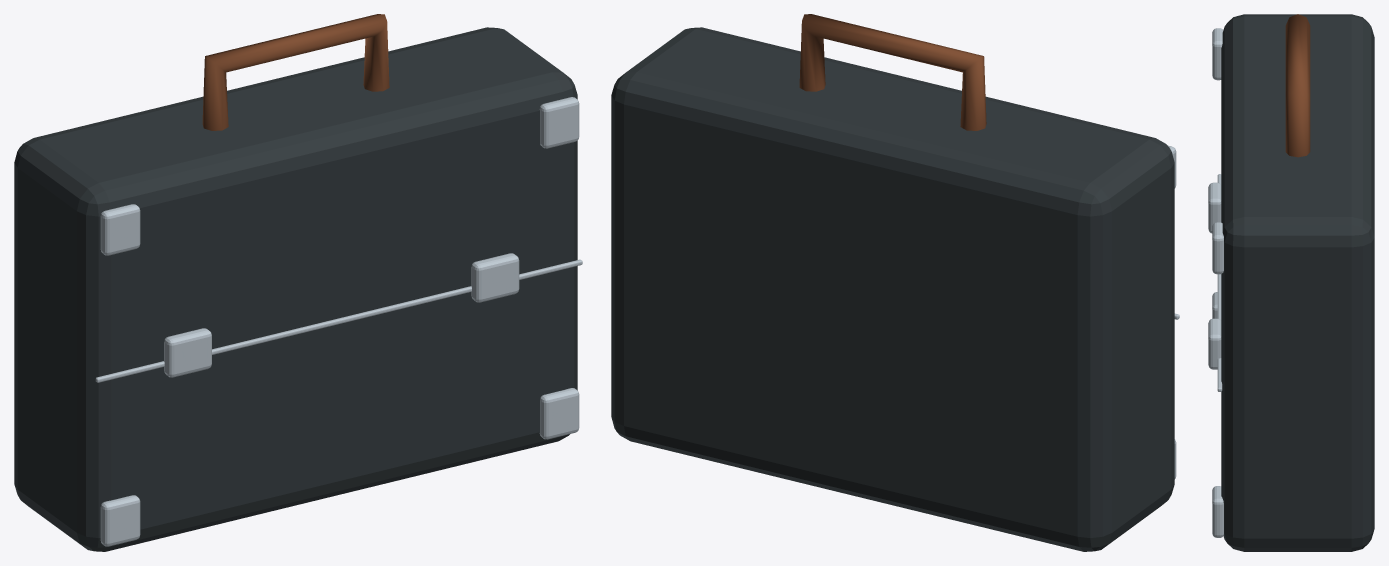
Rendered from Maletin.fbx.
3 views of the same model, side by side, from view 1: azimuth 30°, elevation 25°; view 2: azimuth 150°, elevation 25°; view 3: azimuth 270°, elevation 25° (orthographic). The views are drawn at different scales.
Visible parts, largest first — view 1: Maletin, Asa, Union_tapa, Cierre.001, Cierre, Esquina.001, Esquina, Esquina.003, Esquina.002; view 2: Maletin, Asa; view 3: Maletin, Asa, Cierre.001, Cierre, Esquina.003, Esquina.002, Esquina.001, Union_tapa.
Boxes of the visible parts, <box> form: Maletin: <box>14,27,577,551</box>; Asa: <box>202,14,389,130</box>; Union_tapa: <box>95,259,582,382</box>; Cierre.001: <box>471,253,519,302</box>; Cierre: <box>164,328,211,377</box>; Esquina.001: <box>100,204,140,255</box>; Esquina: <box>100,495,140,546</box>; Esquina.003: <box>539,97,579,148</box>; Esquina.002: <box>539,388,579,439</box>; Maletin: <box>611,27,1174,551</box>; Asa: <box>799,14,986,130</box>; Maletin: <box>1221,14,1374,551</box>; Asa: <box>1285,14,1310,157</box>; Cierre.001: <box>1208,318,1221,369</box>; Cierre: <box>1208,182,1221,233</box>; Esquina.003: <box>1212,222,1223,274</box>; Esquina.002: <box>1212,486,1223,537</box>; Esquina.001: <box>1212,28,1223,80</box>; Union_tapa: <box>1217,174,1222,391</box>.
Size of the model in its own units: 34 by 28.57 by 10.85.
